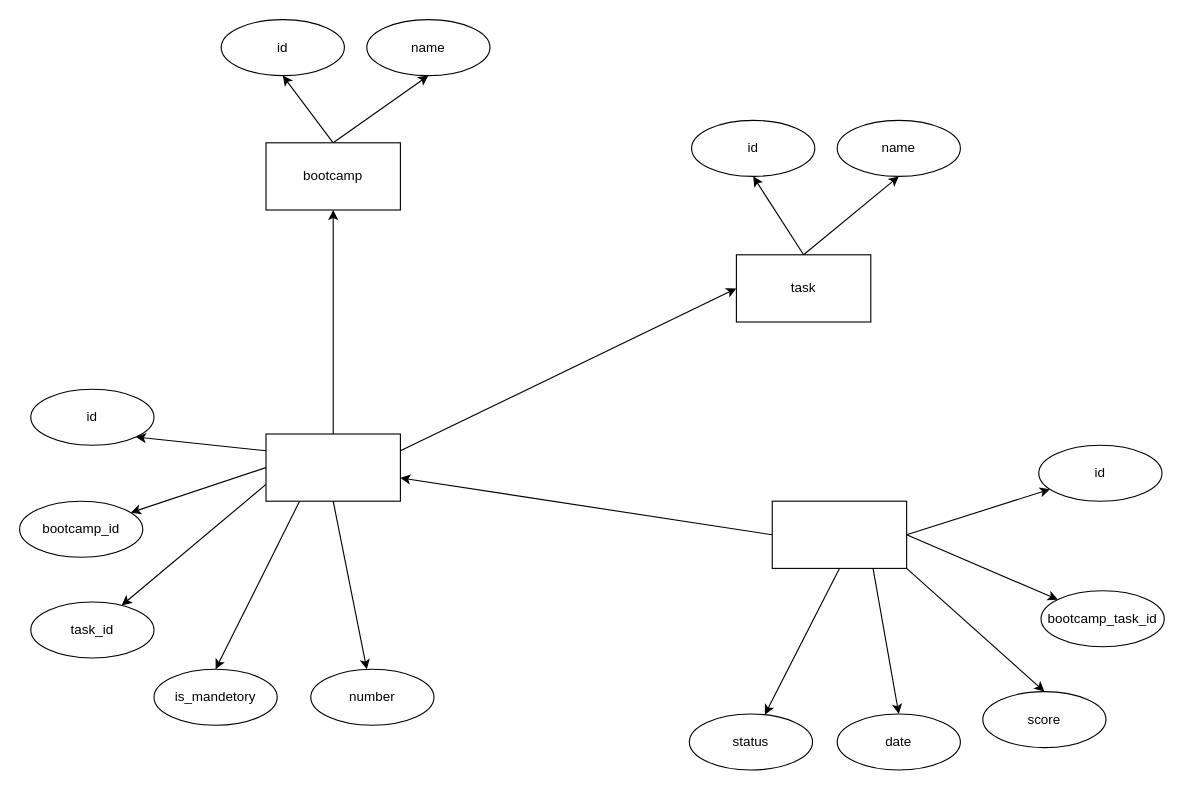
This 1184x790 diagram has some shape labels left out. Each missing label, with the centre of its shape:
"bootcamp_task" goes at (332,467).
"submission" goes at (839,534).
